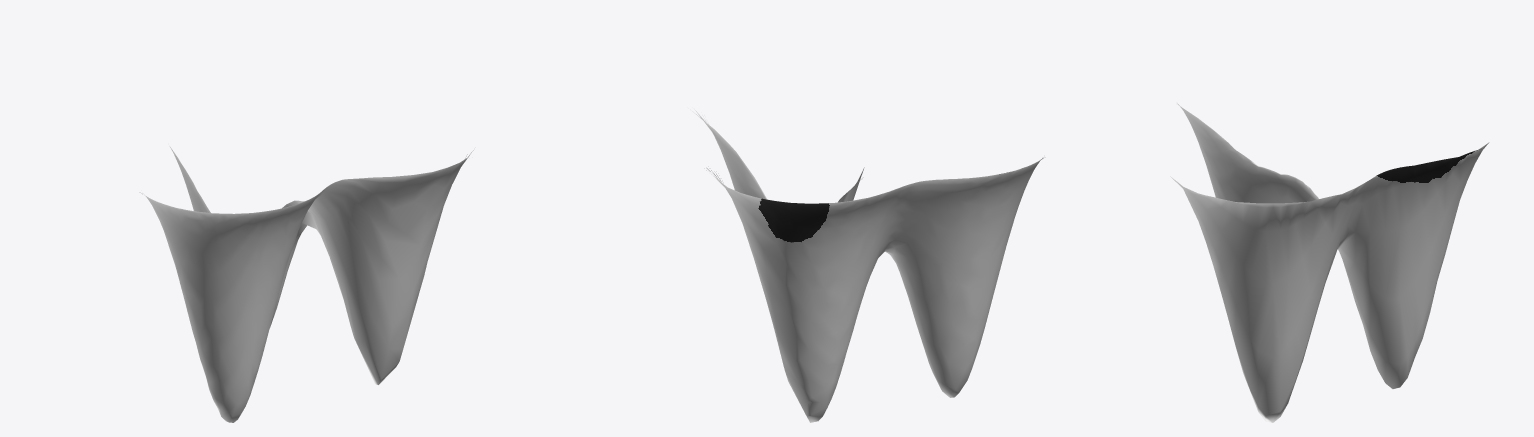
File: cgalref_three_peaks_cgal_conformal_result.glb
3 renders of one model, left to right at view 1: azimuth 30°, elevation 25°; view 2: azimuth 150°, elevation 25°; view 3: azimuth 270°, elevation 25°, orthographic. The views are drawn at different scales.
Visible parts, largest first — view 1: parameterized; view 2: parameterized; view 3: parameterized.
Part boxes in pixels (x1,y1,x2,y2): parameterized: [143, 146, 473, 422]; parameterized: [688, 108, 1043, 422]; parameterized: [1170, 103, 1489, 422].
Size of the model in its own units: 100 by 71.64 by 85.71.
1 material, 1 textured.
